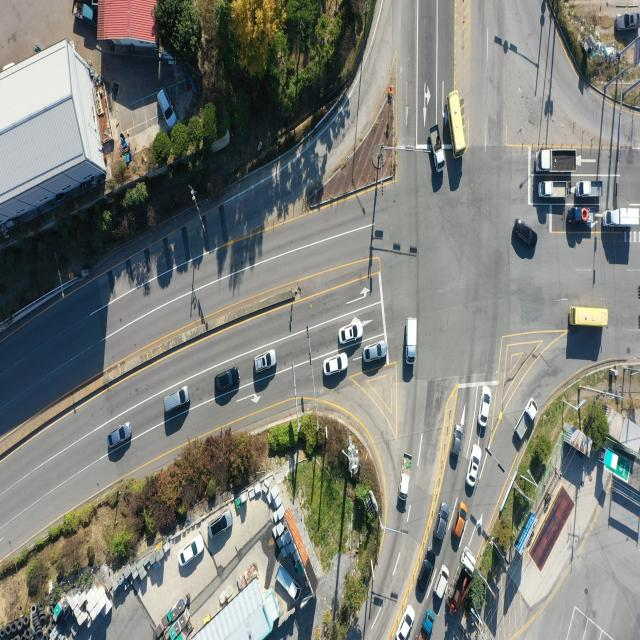car: (450, 500, 468, 549), (180, 530, 202, 570), (158, 86, 178, 128), (513, 218, 537, 248), (166, 385, 192, 412), (210, 510, 234, 538), (398, 604, 416, 640), (418, 554, 435, 592), (340, 319, 364, 345), (107, 423, 131, 449), (213, 368, 239, 392), (470, 447, 484, 489), (326, 353, 350, 377), (451, 426, 464, 470), (438, 502, 452, 542), (256, 354, 279, 378), (364, 342, 388, 364), (436, 566, 451, 601), (481, 388, 492, 430), (616, 12, 639, 29)
medium_truck: (449, 553, 474, 606), (539, 148, 579, 174), (605, 207, 640, 228)
small_bus: (448, 90, 468, 155), (570, 305, 608, 328)
small_truck: (514, 398, 537, 443), (275, 567, 302, 600), (428, 124, 445, 171), (71, 3, 99, 31), (399, 452, 412, 504), (407, 318, 420, 368), (540, 183, 572, 202), (577, 180, 604, 198), (421, 609, 435, 640), (572, 206, 592, 224)
